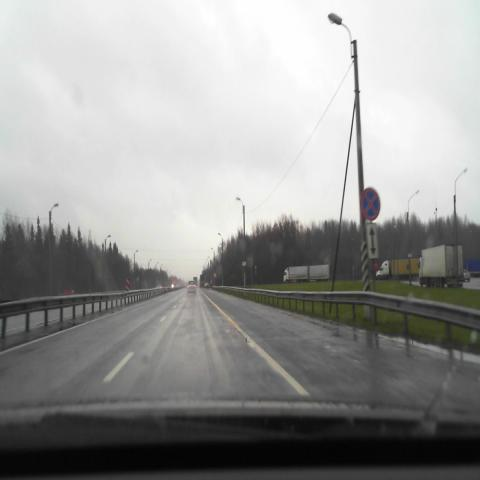8_2_4: (366, 223, 378, 258)
